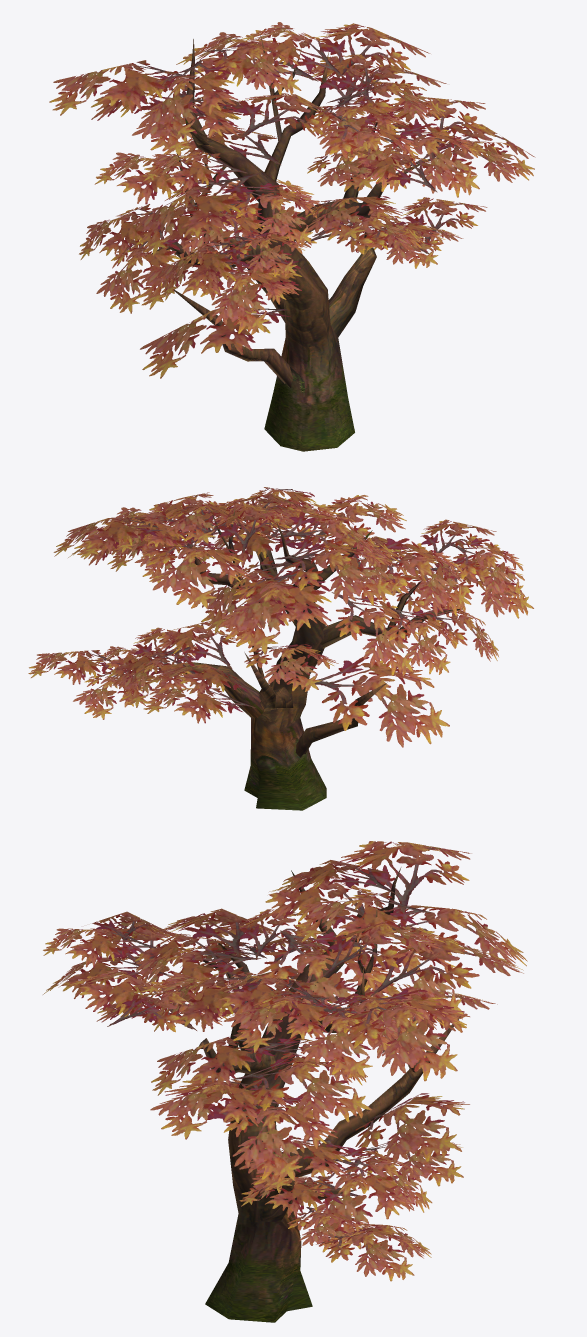
Rendered from environment_Tree_red_002_a.FBX.
3 views of the same model, one above another, from view 1: azimuth 30°, elevation 25°; view 2: azimuth 150°, elevation 25°; view 3: azimuth 270°, elevation 25° (orthographic). The views are drawn at different scales.
Visible parts, largest first — view 1: environment_Tree_red_002_a, environment_Tree_red_002_b; view 2: environment_Tree_red_002_a, environment_Tree_red_002_b; view 3: environment_Tree_red_002_a, environment_Tree_red_002_b.
Part boxes in pixels (x1,y1,x2,y2): environment_Tree_red_002_a: (49, 22, 535, 378); environment_Tree_red_002_b: (151, 34, 426, 451); environment_Tree_red_002_a: (28, 487, 533, 747); environment_Tree_red_002_b: (158, 503, 462, 810); environment_Tree_red_002_a: (43, 841, 527, 1281); environment_Tree_red_002_b: (198, 867, 460, 1322).
Size of the model in its own units: 517 by 449 by 361.
2 materials, 2 textured.
